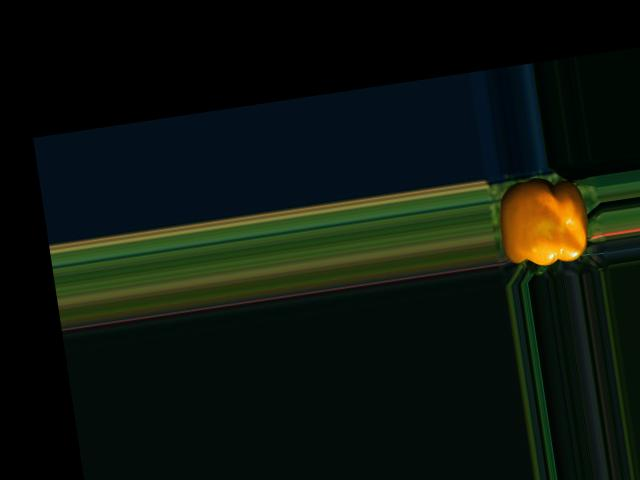bell_pepper: (488, 169, 601, 280)
